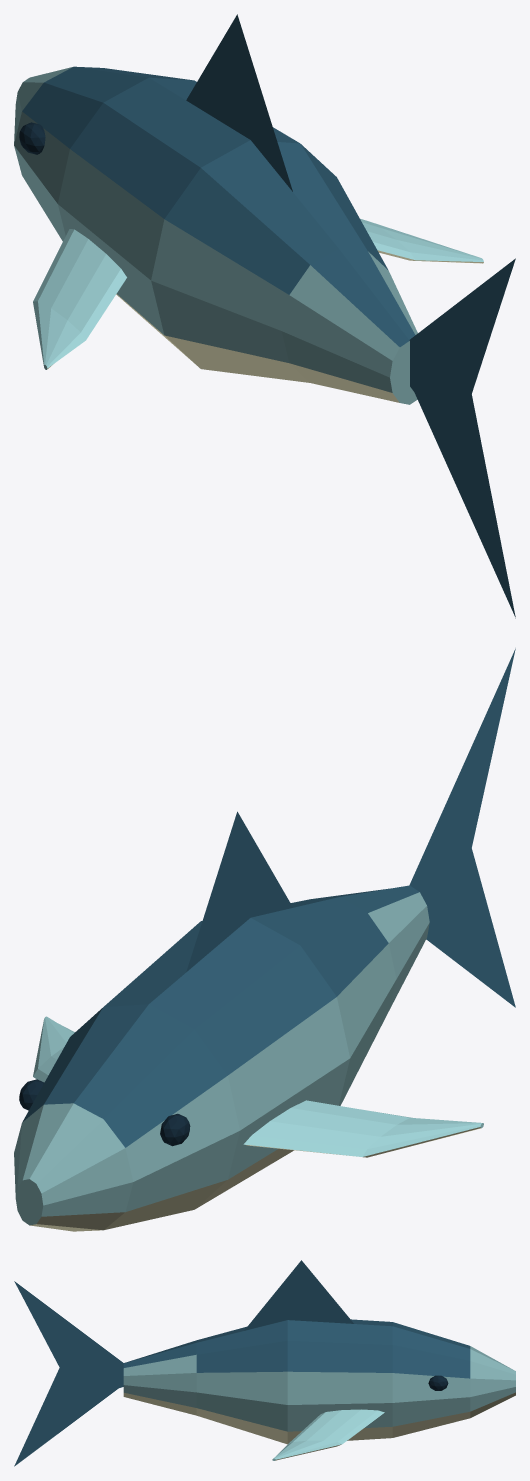
The model's file is wild_silver_fish.glb.
The picture shows the model from 3 angles, top to bottom: view 1: azimuth 30°, elevation 25°; view 2: azimuth 150°, elevation 25°; view 3: azimuth 270°, elevation 25°; orthographic projection. The views are drawn at different scales.
Parts seen in each view (by area): view 1: continuous silver body, forked tail, tapered pectoral, tapered pectoral.001; view 2: continuous silver body, forked tail, tapered pectoral, tapered pectoral.001; view 3: continuous silver body, forked tail, tapered pectoral.001.
Boxes of the visible parts, x1,y1,x2,y2 form: continuous silver body: [14, 14, 417, 404]; forked tail: [409, 258, 515, 618]; tapered pectoral: [33, 229, 126, 369]; tapered pectoral.001: [360, 218, 483, 263]; continuous silver body: [14, 811, 429, 1231]; forked tail: [409, 648, 515, 1007]; tapered pectoral: [243, 1100, 483, 1157]; tapered pectoral.001: [33, 1016, 74, 1082]; continuous silver body: [123, 1260, 515, 1444]; forked tail: [14, 1281, 123, 1466]; tapered pectoral.001: [272, 1409, 384, 1460].
Size of the model in its own units: 0.57 by 0.5 by 1.1.
